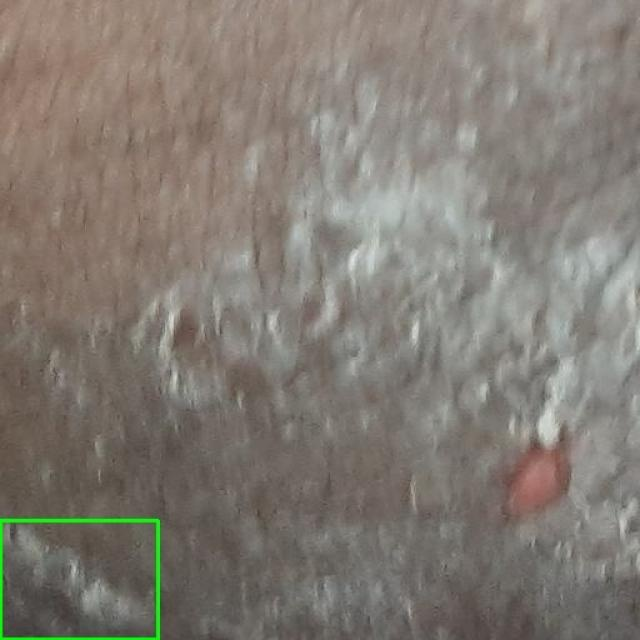Eczema: (0, 520, 158, 639)
